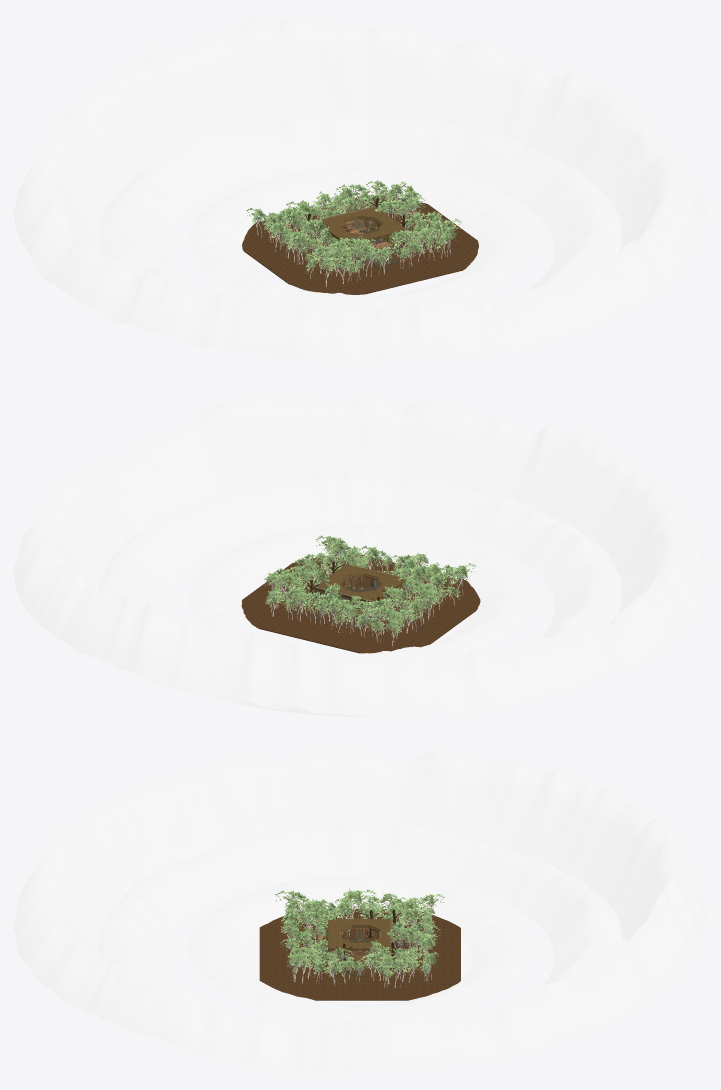
File: akhada_atrium.glb
3 views of the same model, one above another, from view 1: azimuth 30°, elevation 25°; view 2: azimuth 150°, elevation 25°; view 3: azimuth 270°, elevation 25° (orthographic).
Visible parts, largest first — view 1: BR_Distant_Mountains, BR_Forest_Ground, BR_Structure_Batch_007_0_0, BR_Forest_Wide_Batch_03, BR_Forest_Wide_Batch_09, BR_Forest_Wide_Batch_24, BR_Forest_Wide_Batch_07, BR_Forest_Wide_Batch_02, BR_Forest_Wide_Batch_14, BR_Forest_Wide_Batch_12, BR_Forest_Wide_Batch_06, BR_Forest_Wide_Batch_11 (+3 smaller); view 2: BR_Distant_Mountains, BR_Forest_Ground, BR_Structure_Batch_007_0_0, BR_Forest_Wide_Batch_24, BR_Forest_Wide_Batch_06, BR_Forest_Wide_Batch_03, BR_Forest_Wide_Batch_15, BR_Forest_Wide_Batch_01, BR_Forest_Wide_Batch_02, BR_Forest_Wide_Batch_11, BR_Forest_Wide_Batch_09, BR_Forest_Wide_Batch_14 (+3 smaller); view 3: BR_Distant_Mountains, BR_Forest_Ground, BR_Structure_Batch_007_0_0, BR_Forest_Wide_Batch_14, BR_Forest_Wide_Batch_13, BR_Forest_Wide_Batch_07, BR_Forest_Wide_Batch_03, BR_Forest_Wide_Batch_06, BR_Forest_Wide_Batch_24, BR_Forest_Wide_Batch_15, BR_Forest_Wide_Batch_09, BR_Forest_Wide_Batch_02 (+2 smaller).
Part boxes in pixels (x1=…): BR_Distant_Mountains: x1=14, y1=14, x2=706, y2=363; BR_Forest_Ground: x1=242, y1=195, x2=478, y2=294; BR_Structure_Batch_007_0_0: x1=315, y1=207, x2=406, y2=245; BR_Forest_Wide_Batch_03: x1=279, y1=227, x2=339, y2=278; BR_Forest_Wide_Batch_09: x1=391, y1=227, x2=441, y2=269; BR_Forest_Wide_Batch_24: x1=264, y1=209, x2=317, y2=259; BR_Forest_Wide_Batch_07: x1=346, y1=236, x2=398, y2=281; BR_Forest_Wide_Batch_02: x1=319, y1=238, x2=357, y2=286; BR_Forest_Wide_Batch_14: x1=369, y1=184, x2=425, y2=227; BR_Forest_Wide_Batch_12: x1=421, y1=218, x2=461, y2=258; BR_Forest_Wide_Batch_06: x1=284, y1=191, x2=340, y2=228; BR_Forest_Wide_Batch_11: x1=328, y1=184, x2=380, y2=213; BR_Distant_Mountains: x1=14, y1=392, x2=706, y2=718; BR_Forest_Ground: x1=241, y1=554, x2=480, y2=653; BR_Structure_Batch_007_0_0: x1=314, y1=564, x2=405, y2=601; BR_Forest_Wide_Batch_24: x1=372, y1=587, x2=432, y2=633; BR_Forest_Wide_Batch_06: x1=322, y1=598, x2=385, y2=637; BR_Forest_Wide_Batch_03: x1=400, y1=572, x2=461, y2=619; BR_Forest_Wide_Batch_15: x1=263, y1=573, x2=299, y2=619; BR_Forest_Wide_Batch_01: x1=362, y1=606, x2=405, y2=646; BR_Forest_Wide_Batch_02: x1=419, y1=562, x2=475, y2=598; BR_Forest_Wide_Batch_11: x1=288, y1=589, x2=338, y2=624; BR_Forest_Wide_Batch_09: x1=339, y1=545, x2=392, y2=581; BR_Forest_Wide_Batch_14: x1=264, y1=563, x2=320, y2=607; BR_Distant_Mountains: x1=14, y1=747, x2=706, y2=1075; BR_Forest_Ground: x1=259, y1=909, x2=460, y2=1000; BR_Structure_Batch_007_0_0: x1=328, y1=919, x2=390, y2=950; BR_Forest_Wide_Batch_14: x1=358, y1=950, x2=413, y2=987; BR_Forest_Wide_Batch_13: x1=310, y1=950, x2=367, y2=985; BR_Forest_Wide_Batch_07: x1=281, y1=909, x2=327, y2=948; BR_Forest_Wide_Batch_03: x1=314, y1=888, x2=376, y2=934; BR_Forest_Wide_Batch_06: x1=394, y1=907, x2=440, y2=951; BR_Forest_Wide_Batch_24: x1=358, y1=893, x2=410, y2=928; BR_Forest_Wide_Batch_15: x1=396, y1=948, x2=438, y2=982; BR_Forest_Wide_Batch_09: x1=280, y1=929, x2=324, y2=973; BR_Forest_Wide_Batch_02: x1=275, y1=890, x2=326, y2=933.
Bounding box in the file's own units: 517 × 88.25 × 516.
37 materials, 29 textured.
